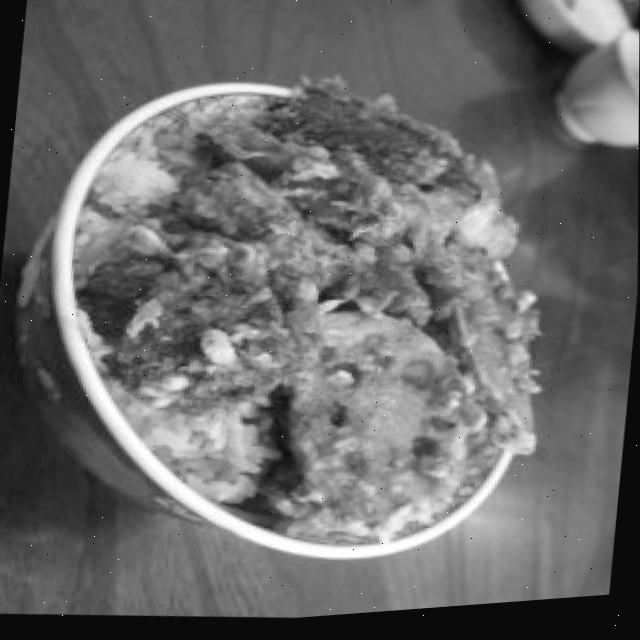熟制海鲜: (0, 37, 588, 612)
